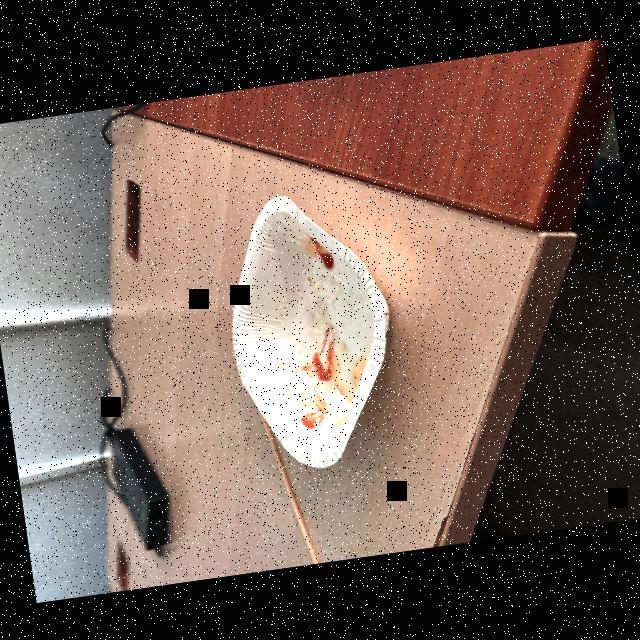cardboard_bowl: (208, 180, 416, 480)
stick: (260, 410, 322, 567)
